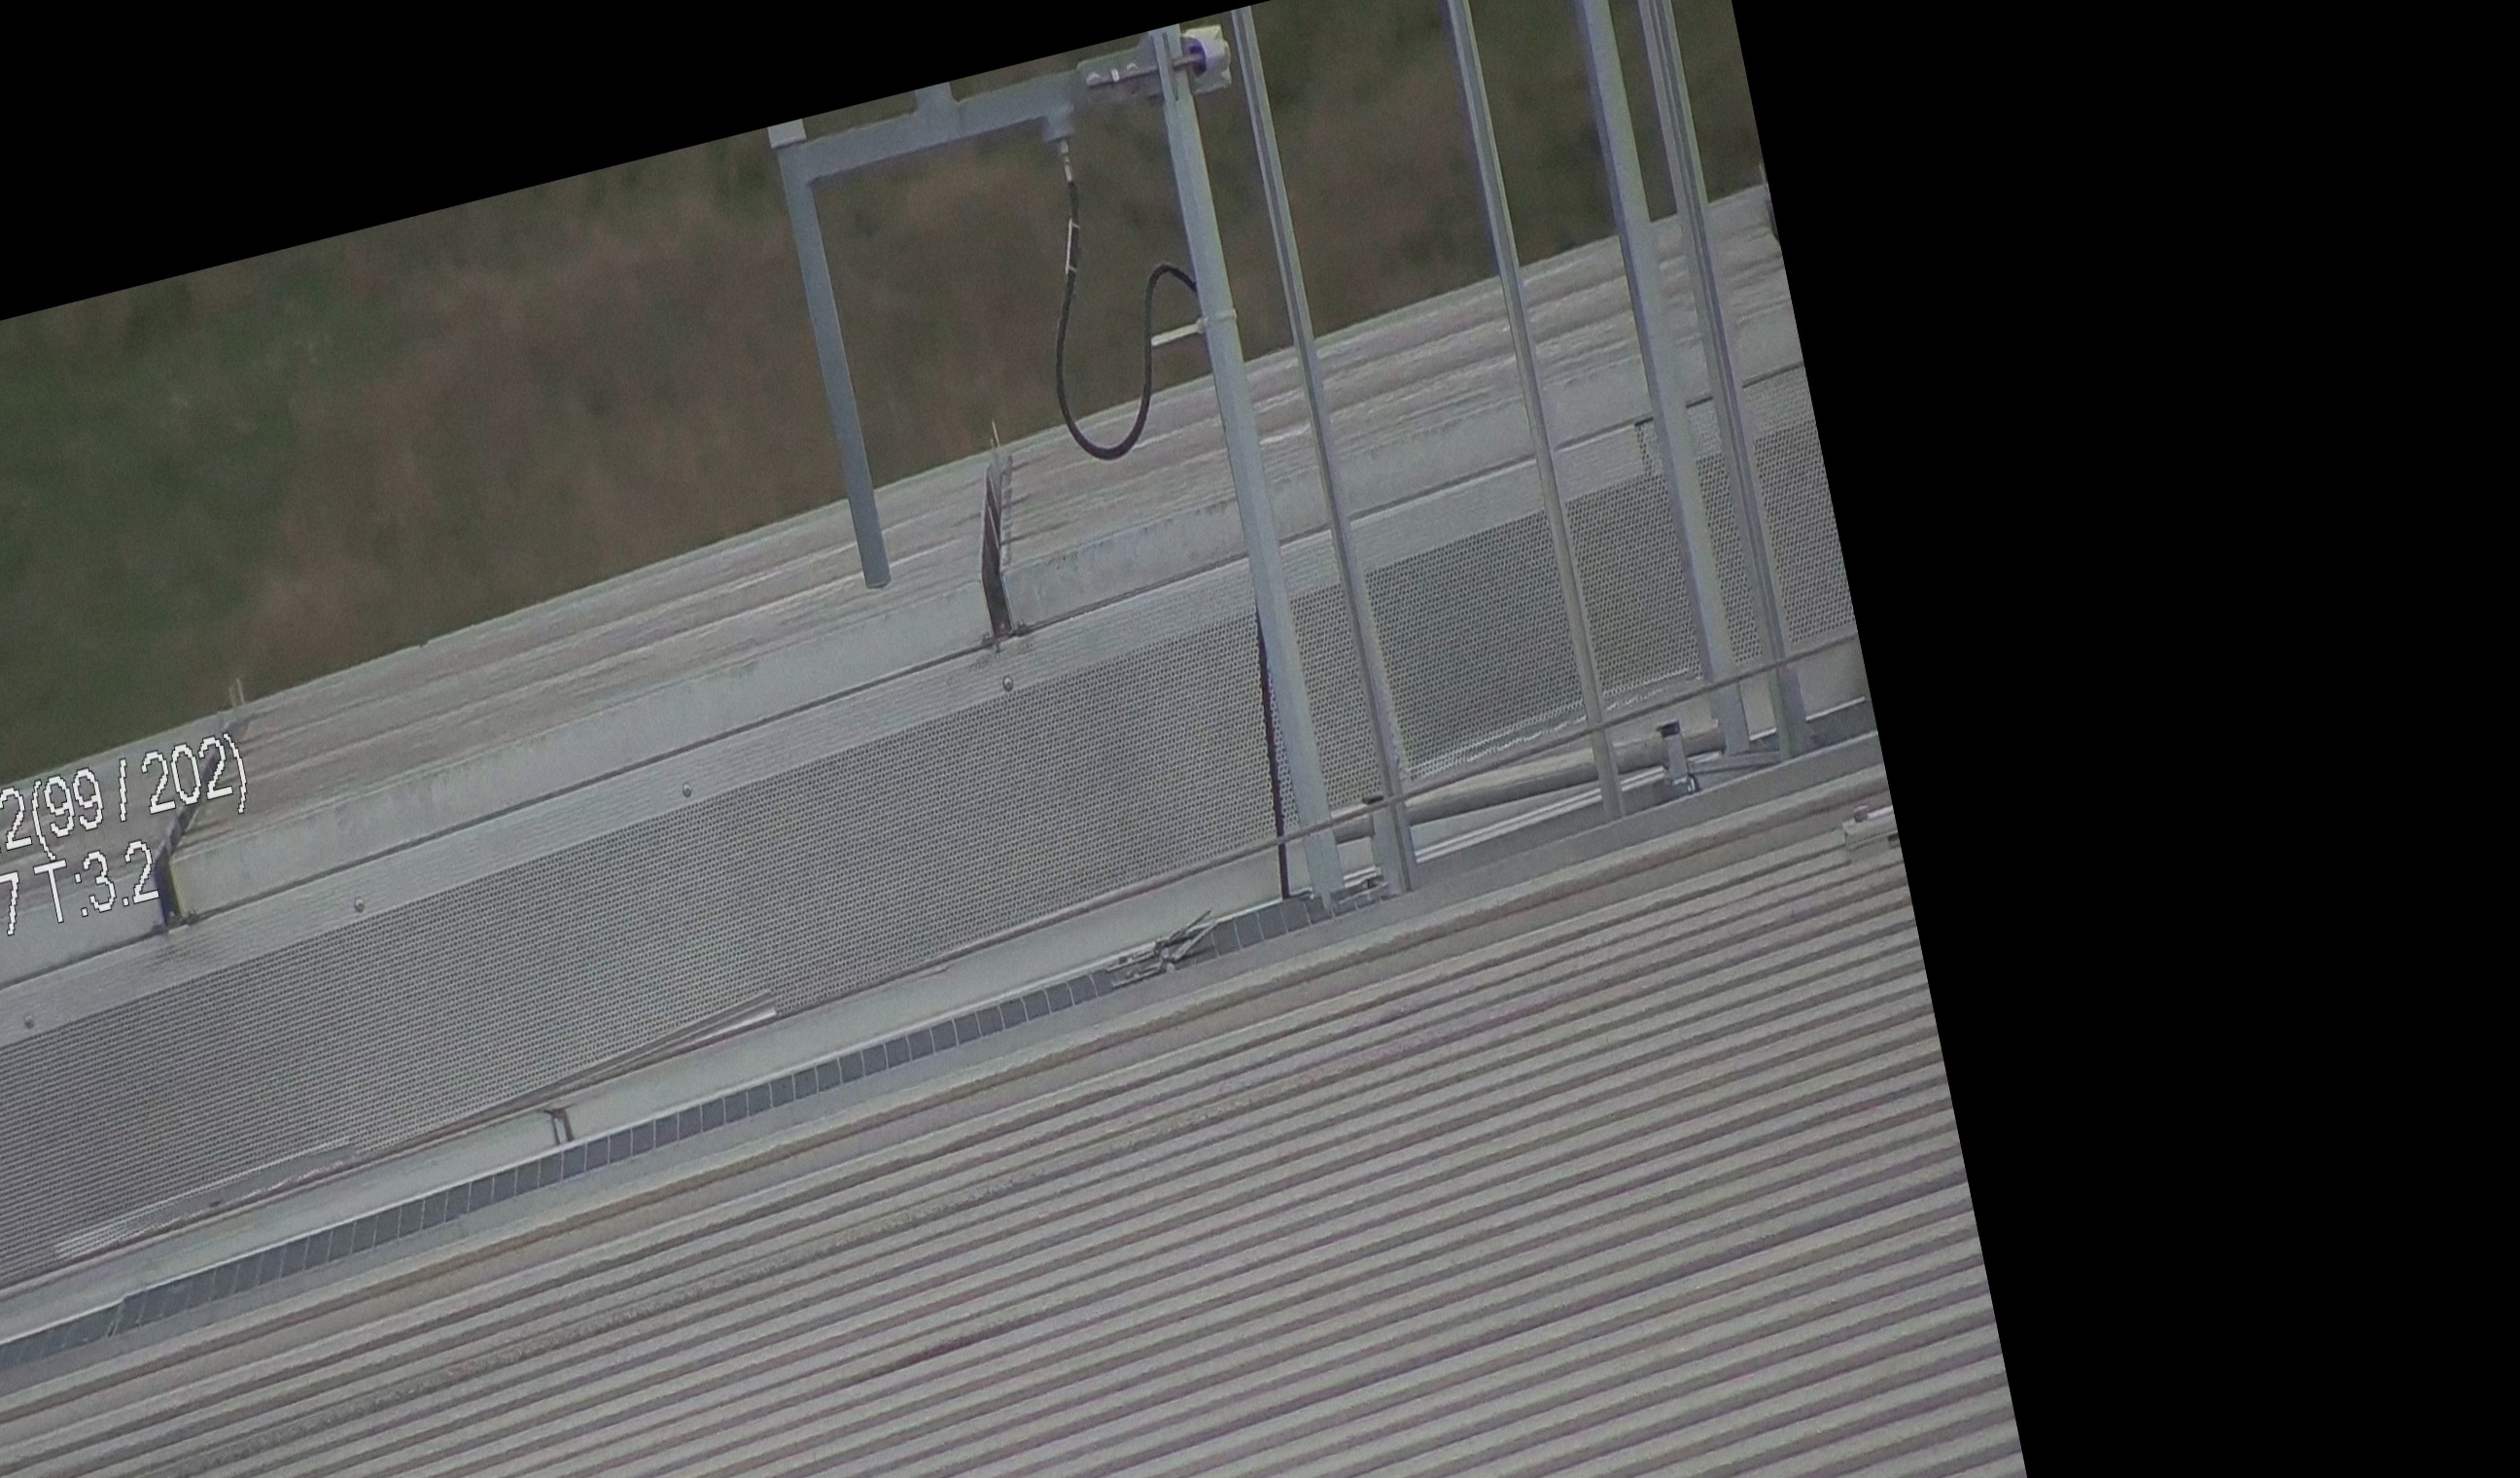Other: (1746, 130, 1868, 375)
